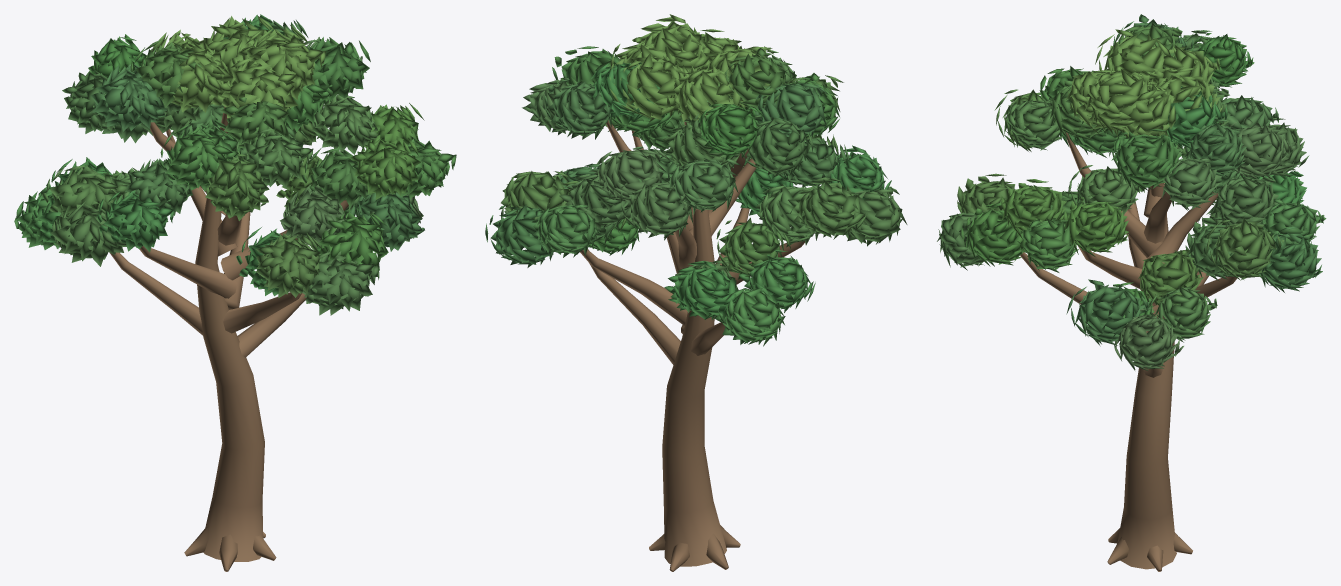
File: tree.glb
3 renders of one model, left to right at view 1: azimuth 30°, elevation 25°; view 2: azimuth 150°, elevation 25°; view 3: azimuth 270°, elevation 25°, orthographic. The views are drawn at different scales.
Parts seen in each view (by area): view 1: tree_Painted jade foliage, tree_Warm smooth bark; view 2: tree_Painted jade foliage, tree_Warm smooth bark; view 3: tree_Painted jade foliage, tree_Warm smooth bark.
Part boxes in pixels (box(x1,y1,x2,y2)): tree_Painted jade foliage: box(14, 14, 456, 315); tree_Warm smooth bark: box(109, 107, 348, 571); tree_Painted jade foliage: box(485, 14, 907, 346); tree_Warm smooth bark: box(579, 118, 804, 571); tree_Painted jade foliage: box(937, 14, 1326, 371); tree_Warm smooth bark: box(1020, 132, 1236, 571).
Size of the model in its own units: 4.71 by 6.21 by 4.34.
